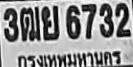2: (115, 2, 131, 37)
3: (3, 7, 19, 42), (99, 2, 114, 38)
6: (65, 4, 81, 39)
7: (81, 3, 97, 39)
A18: (20, 6, 41, 42)
A34: (40, 5, 60, 40)
BKK: (17, 48, 122, 67)
